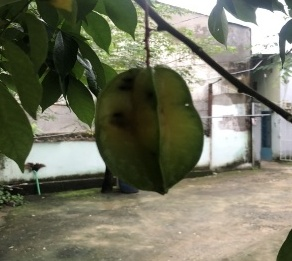Khe: (97, 64, 200, 189)
